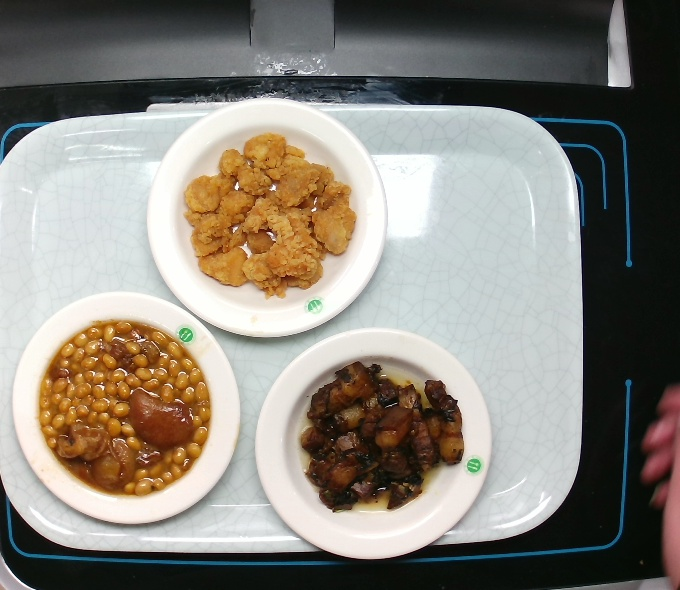wcq-GanCaiRou: (295, 356, 472, 519)
wcq-HuangDouZhuJiao: (33, 314, 218, 502)
wcq-JiMiHua: (176, 127, 368, 304)
